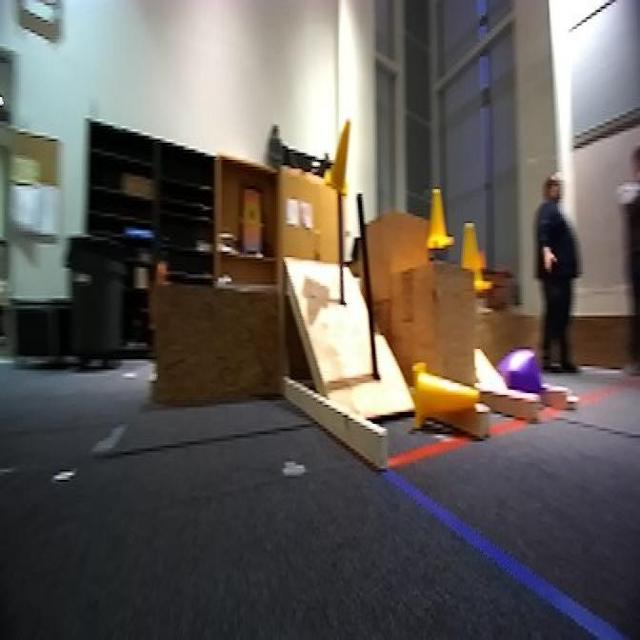frc_cone: (411, 361, 479, 437), (325, 118, 357, 198), (456, 220, 486, 291), (427, 191, 453, 252)
frc_cube: (499, 349, 544, 395)
